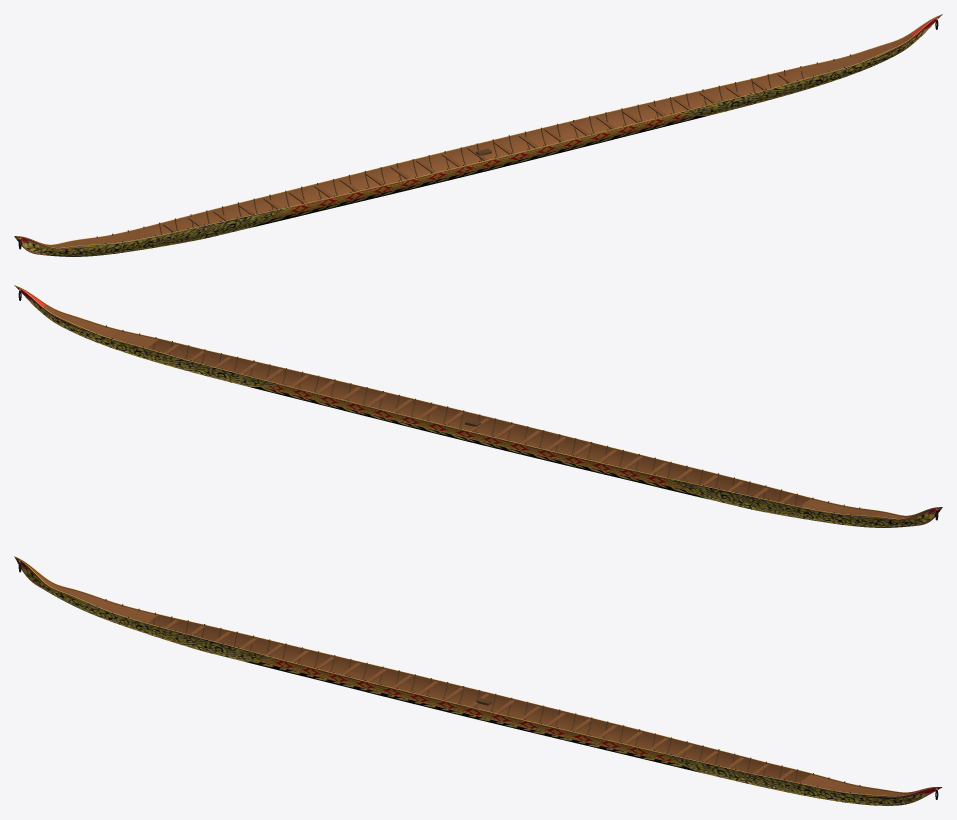
Rendered from accepted-hull.glb.
3 views of the same model, one above another, from view 1: azimuth 30°, elevation 25°; view 2: azimuth 150°, elevation 25°; view 3: azimuth 330°, elevation 25° (orthographic).
Parts seen in each view (by area): view 1: Hull_Watertight_30_20x1_12, Foredeck, SternDeck; view 2: Hull_Watertight_30_20x1_12, Foredeck, SternDeck; view 3: Hull_Watertight_30_20x1_12, SternDeck, Foredeck.
Boxes of the visible parts, left/top/right/bottom form: Hull_Watertight_30_20x1_12: left=14, top=14, right=942, bottom=256; Foredeck: left=798, top=16, right=939, bottom=77; SternDeck: left=43, top=228, right=156, bottom=247; Hull_Watertight_30_20x1_12: left=14, top=285, right=942, bottom=527; Foredeck: left=17, top=287, right=158, bottom=348; SternDeck: left=800, top=499, right=913, bottom=518; Hull_Watertight_30_20x1_12: left=14, top=556, right=942, bottom=805; SternDeck: left=24, top=562, right=157, bottom=622; Foredeck: left=799, top=774, right=912, bottom=796.
Bounding box in the file's own units: 30.2 × 1.52 × 1.12.
7 materials, 1 textured.
